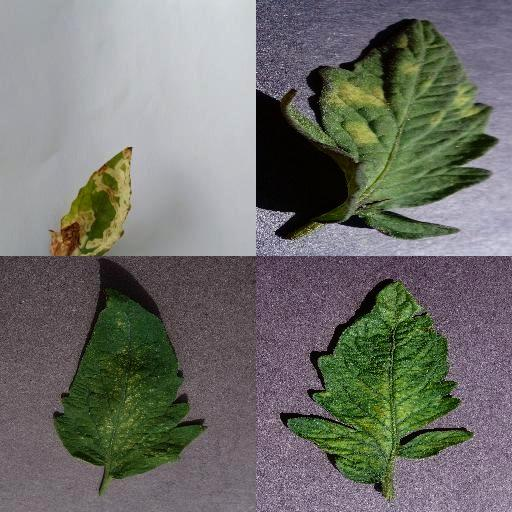Leaf Miner: (47, 141, 134, 256)
Leaf Mold: (282, 19, 502, 241)
Mosaic Virus: (286, 278, 476, 486)
Spider Mites: (51, 286, 208, 482)
